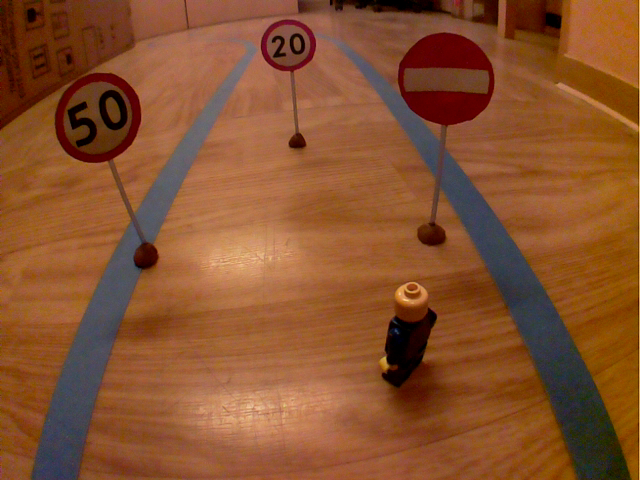Ograniczenie 20: (257, 17, 319, 73)
Ograniczenie 50: (50, 69, 145, 168)
Postac LEGO: (375, 271, 443, 397)
Zakaz: (394, 28, 499, 130)
